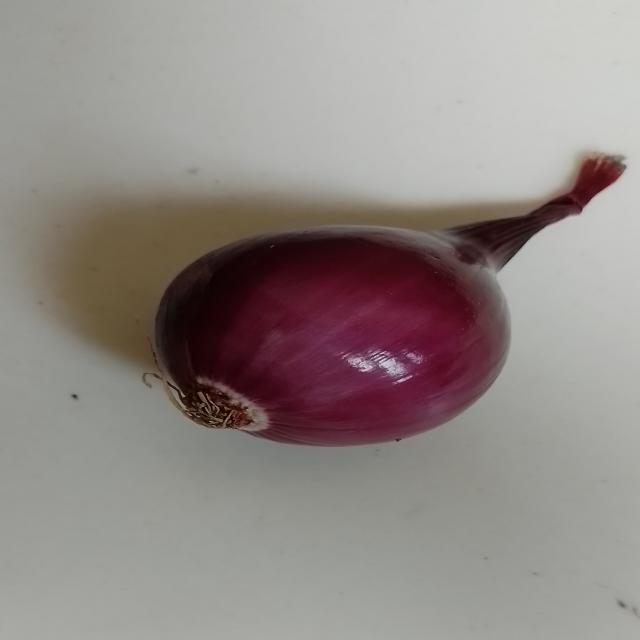Onion: (154, 157, 626, 446)
